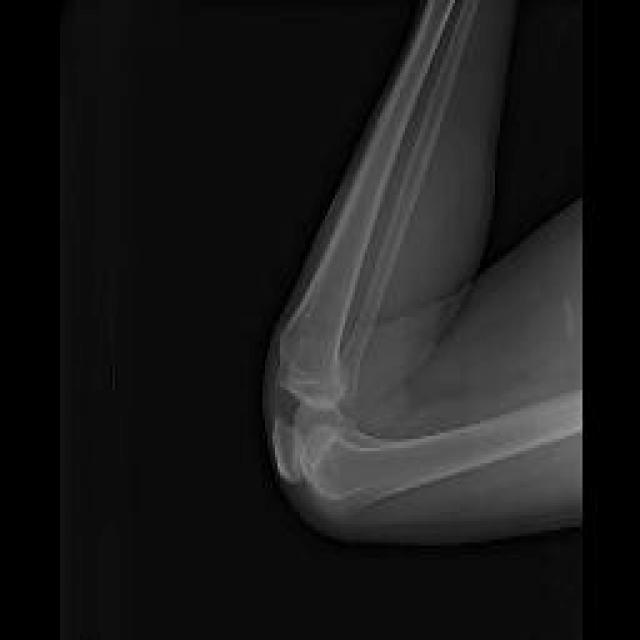normal: (279, 0, 456, 401), (338, 3, 475, 397), (272, 392, 580, 510)
